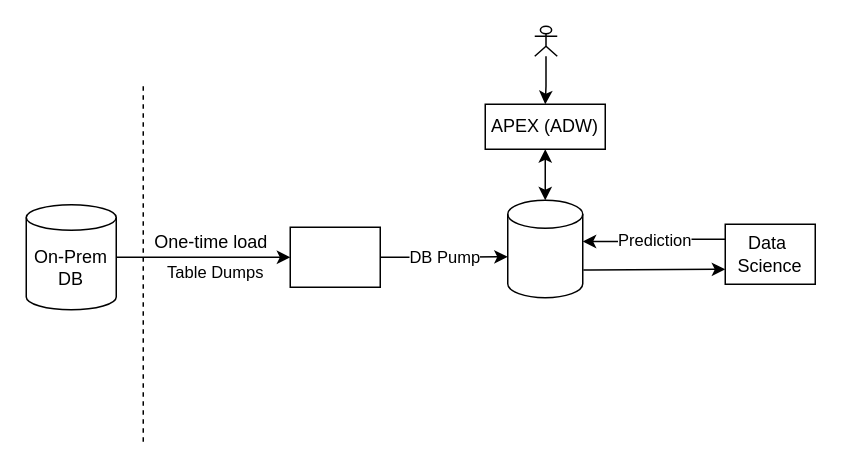
The diagram is 842 pixels wide and 470 high, and some of its shapes have lost their labels. Here are the shapes that lost their labels. From the top down, the centre of each, then its label:
At [334,256]: "Object Storage".
At [544,248]: "ADW".
